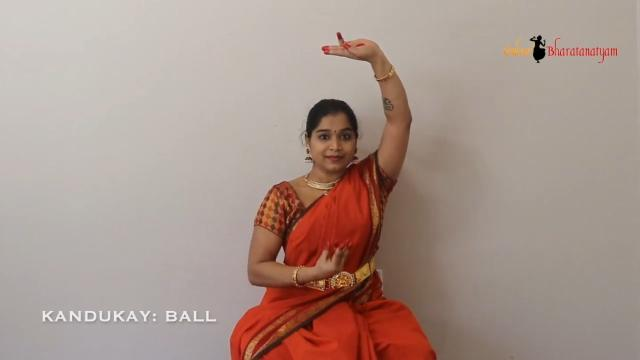padamkosh: (313, 230, 365, 294)
